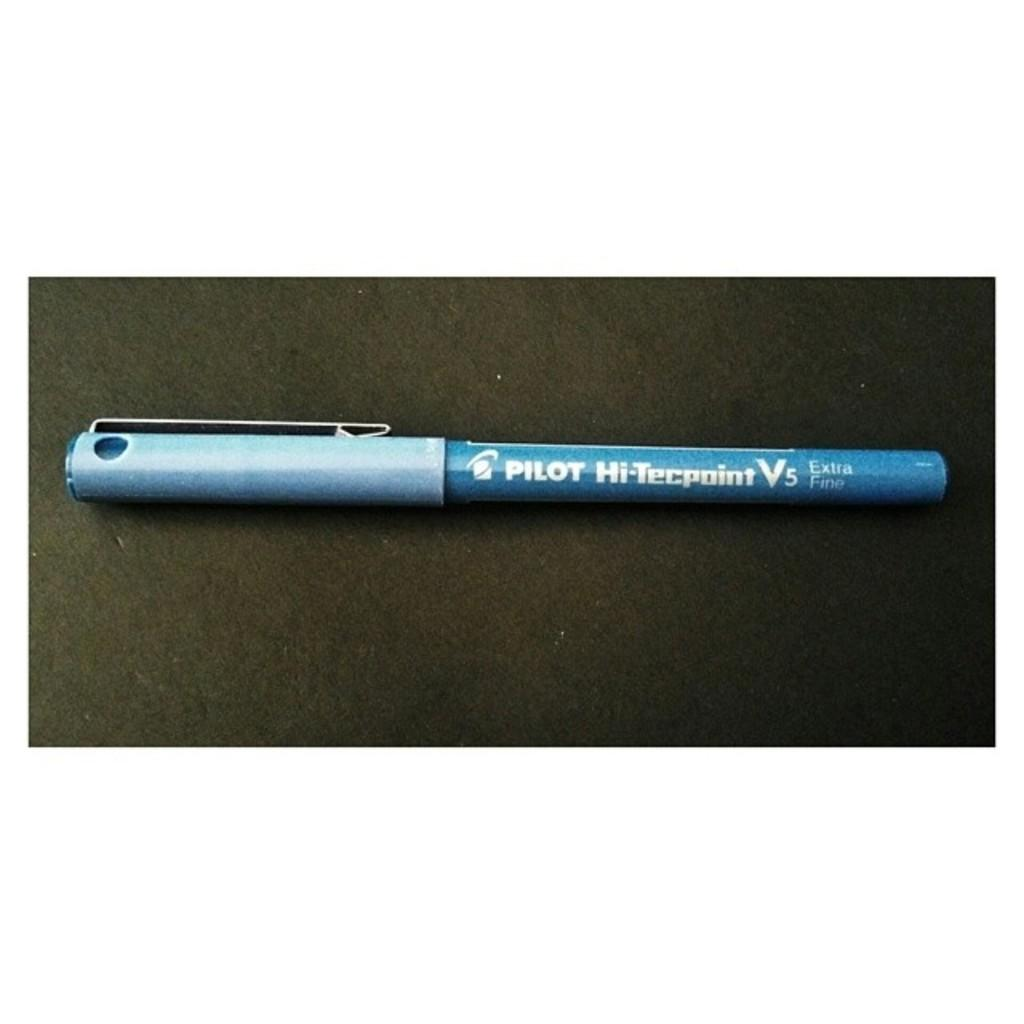pen: (61, 418, 955, 515)
